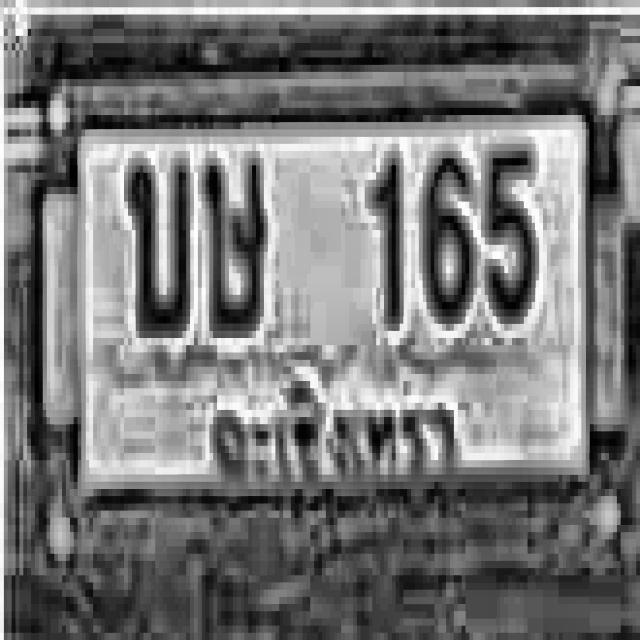license-plate: (28, 63, 629, 557)
